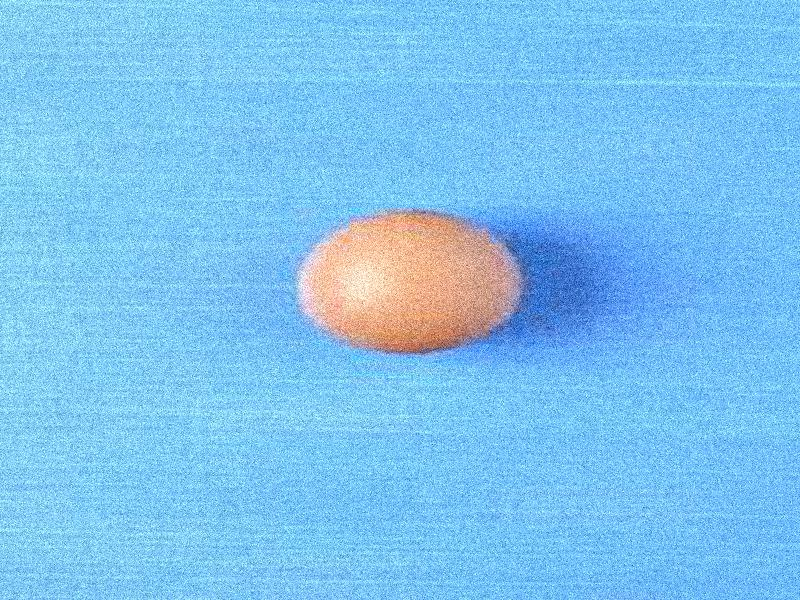Eggs: (293, 211, 529, 352)
